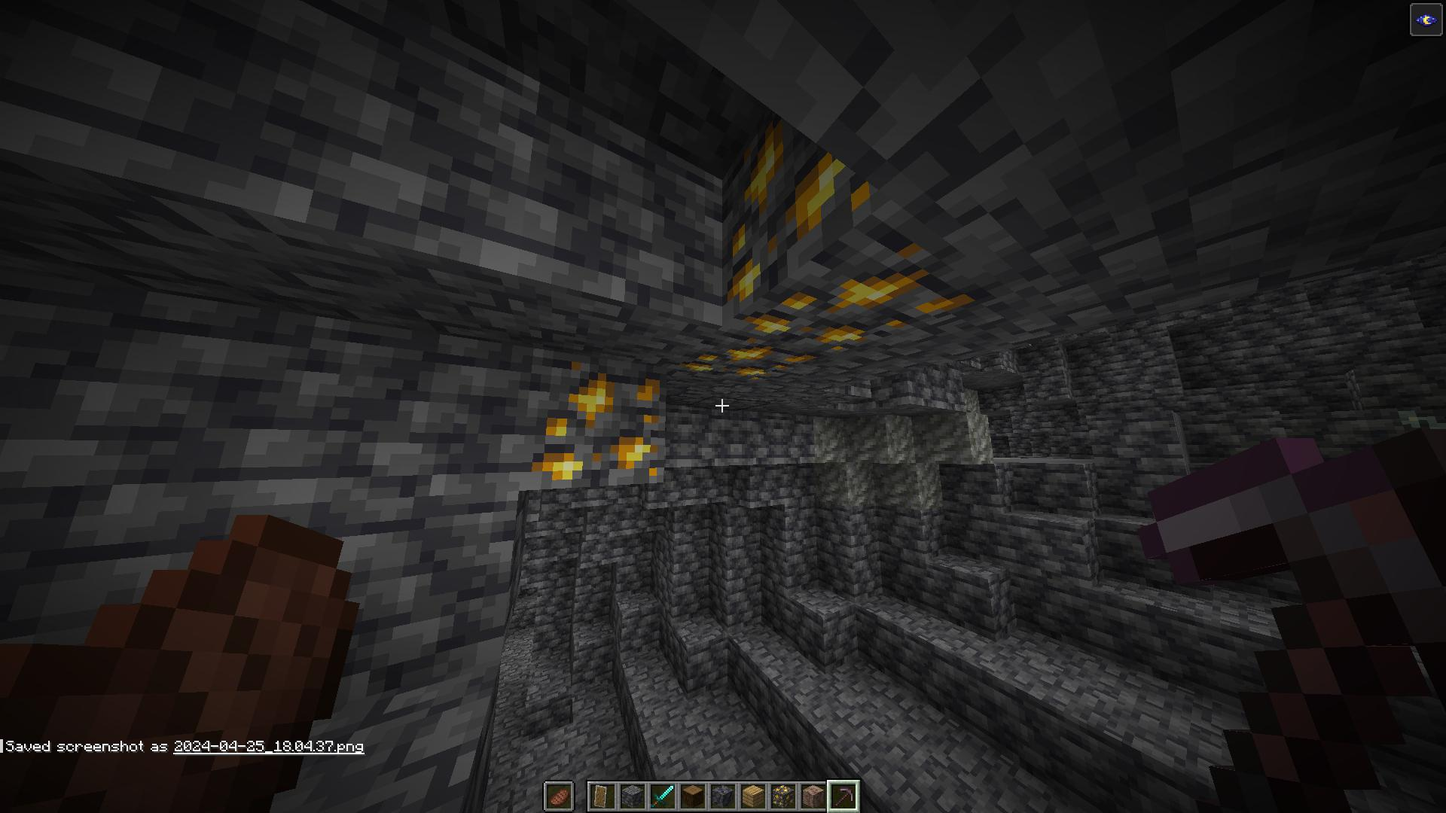gold ore: (717, 122, 981, 344), (525, 351, 669, 496), (662, 329, 821, 391)
